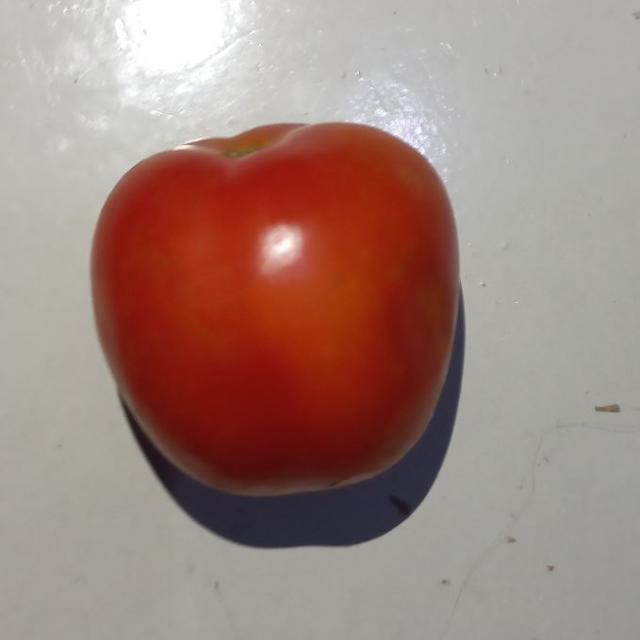ripe tomato: (79, 116, 471, 524)
